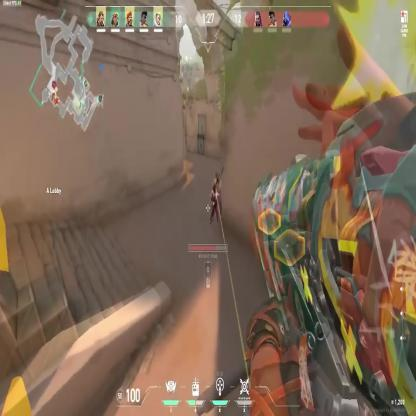enemy: (212, 171, 222, 219), (209, 184, 220, 222)
enemy_head: (216, 171, 219, 180), (212, 186, 216, 192)
